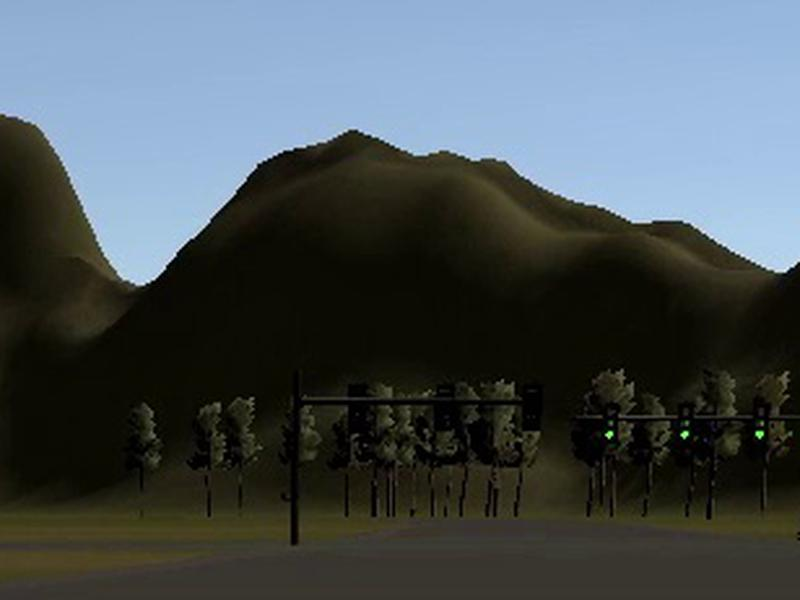Green: (677, 402, 695, 444), (602, 402, 619, 444), (752, 402, 769, 442)
